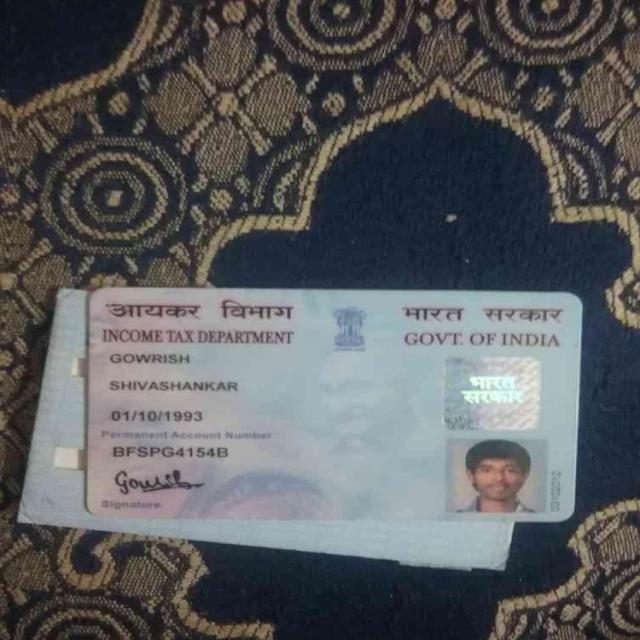pan_card: (90, 290, 577, 520)
